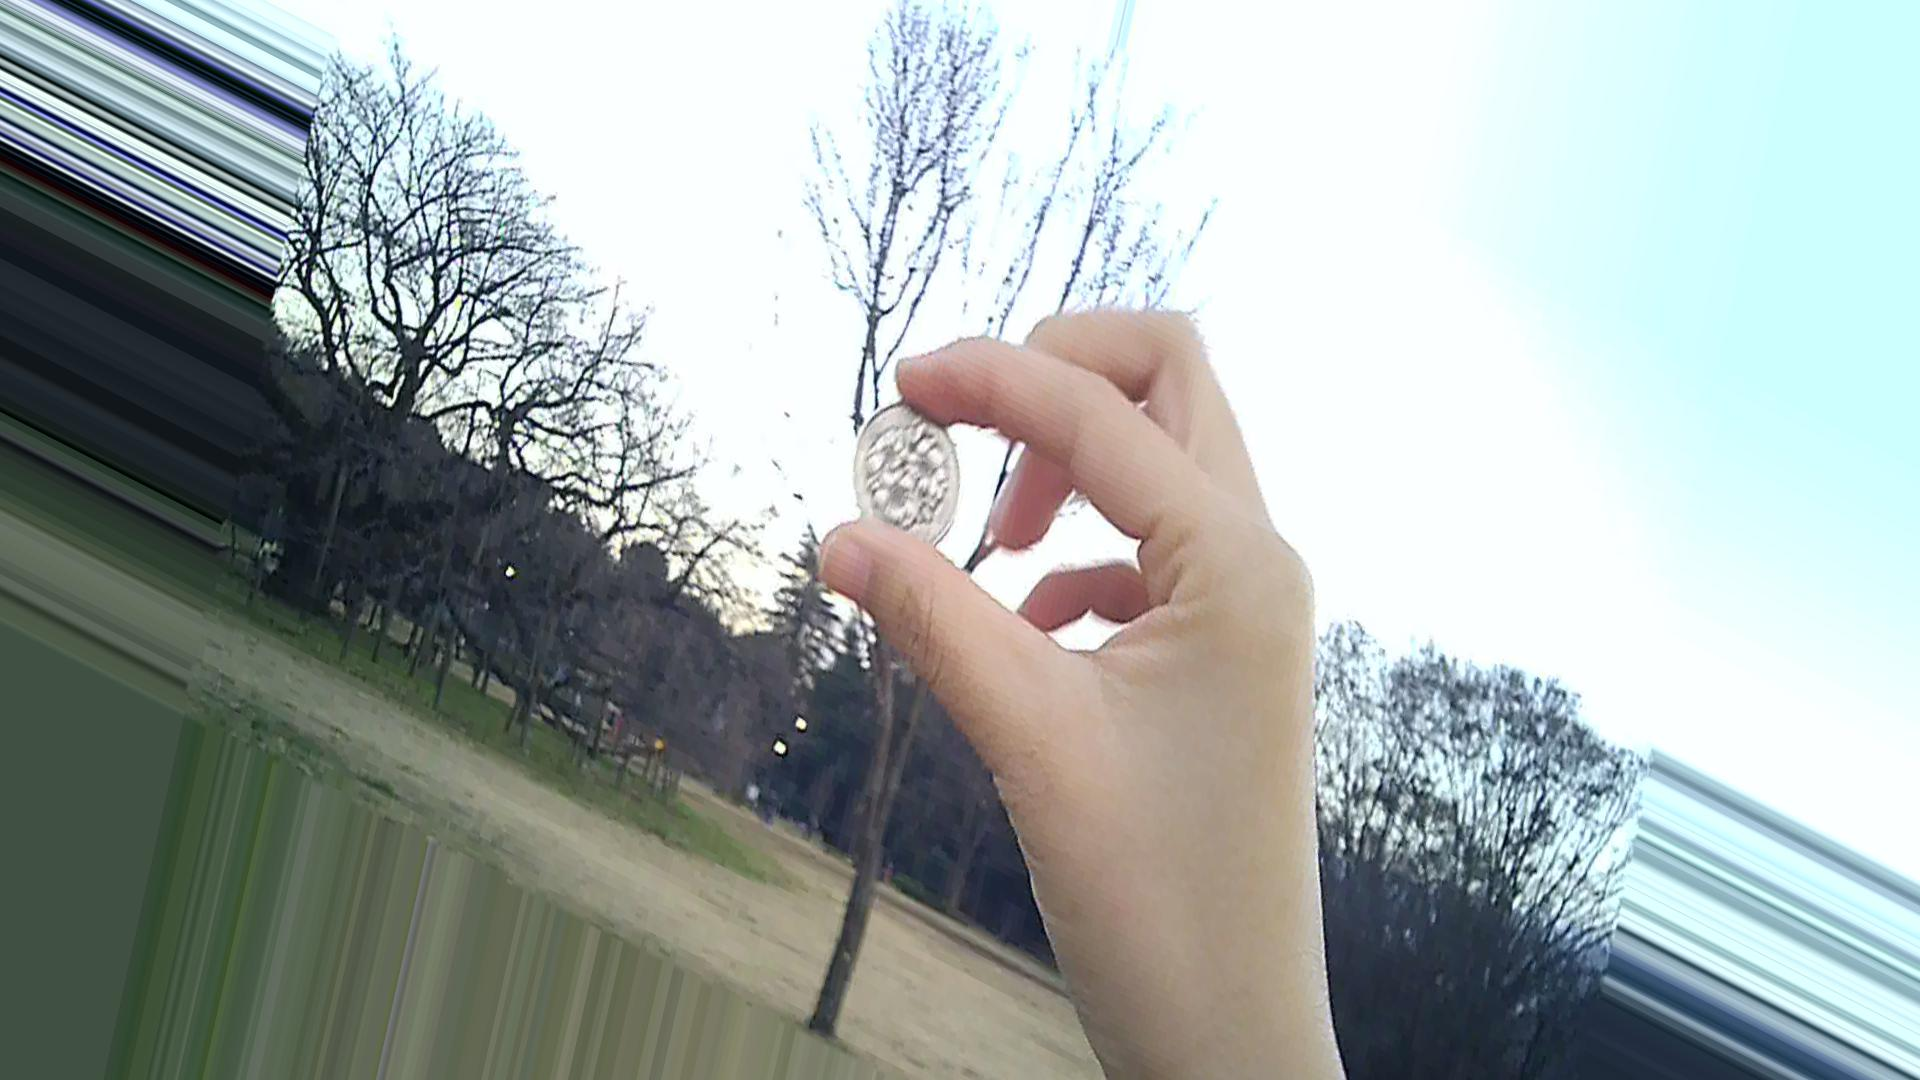100 Yen: (841, 397, 967, 560)
